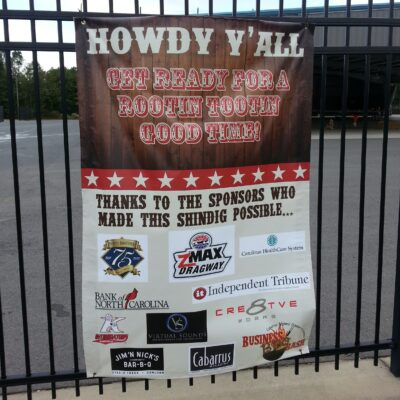vinyl banner: (65, 6, 337, 393)
